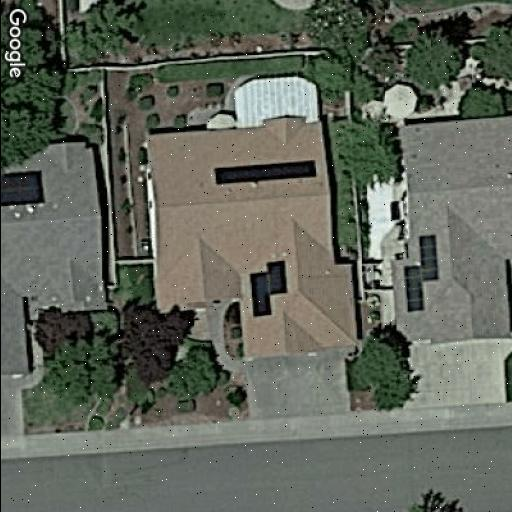solar-panel: (401, 232, 441, 316), (211, 158, 319, 188), (246, 258, 290, 320), (0, 168, 48, 210)
